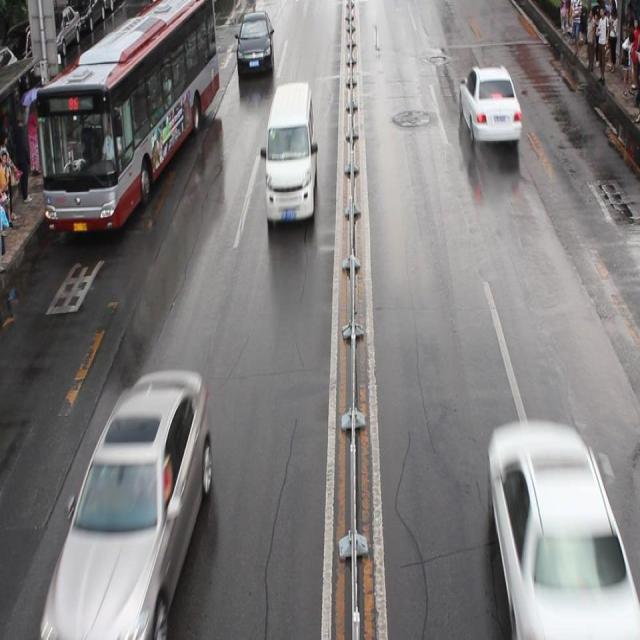car: (44, 367, 212, 640), (487, 423, 630, 640), (458, 68, 522, 144), (236, 13, 274, 74)
truck: (264, 84, 316, 225)
van: (36, 1, 218, 230)
